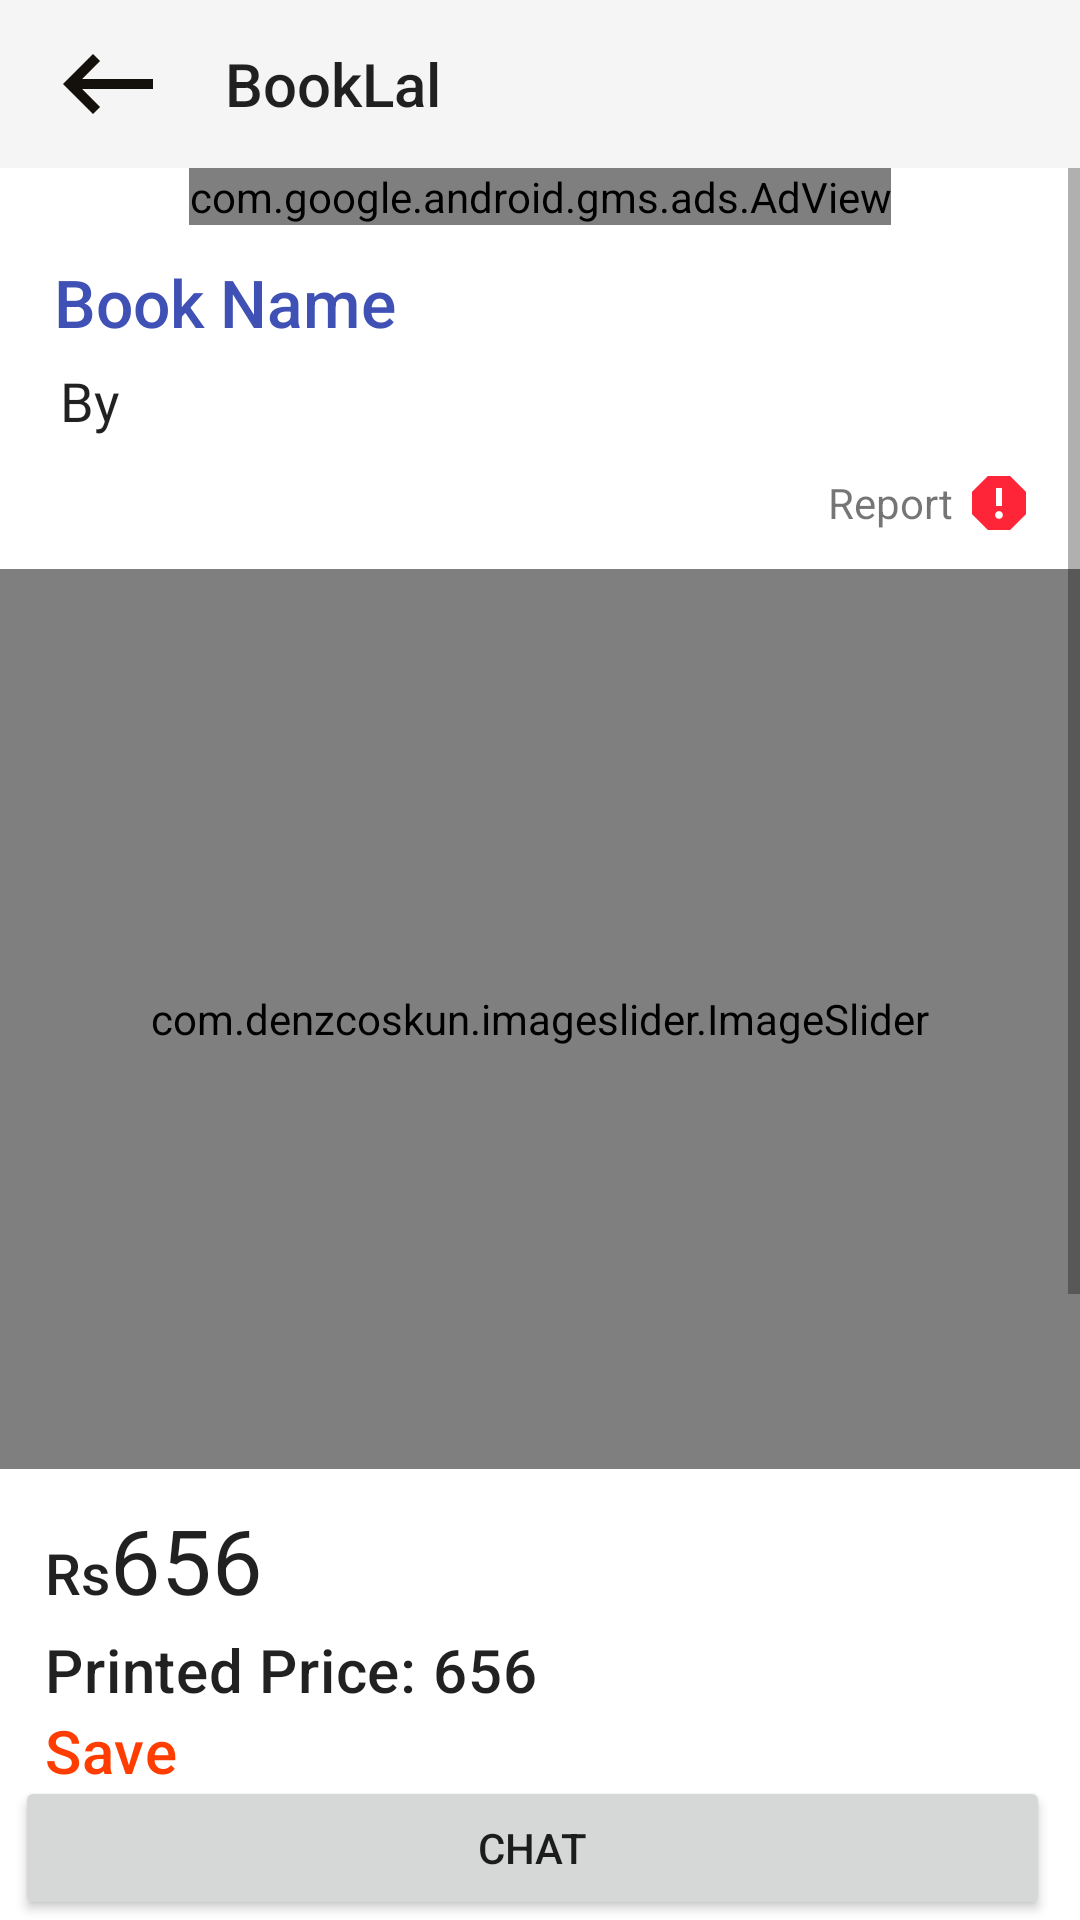

Point at icon controls on the screen. Image size 1080px×1920px, points as (x,y).
long back arrow: (108,84)
